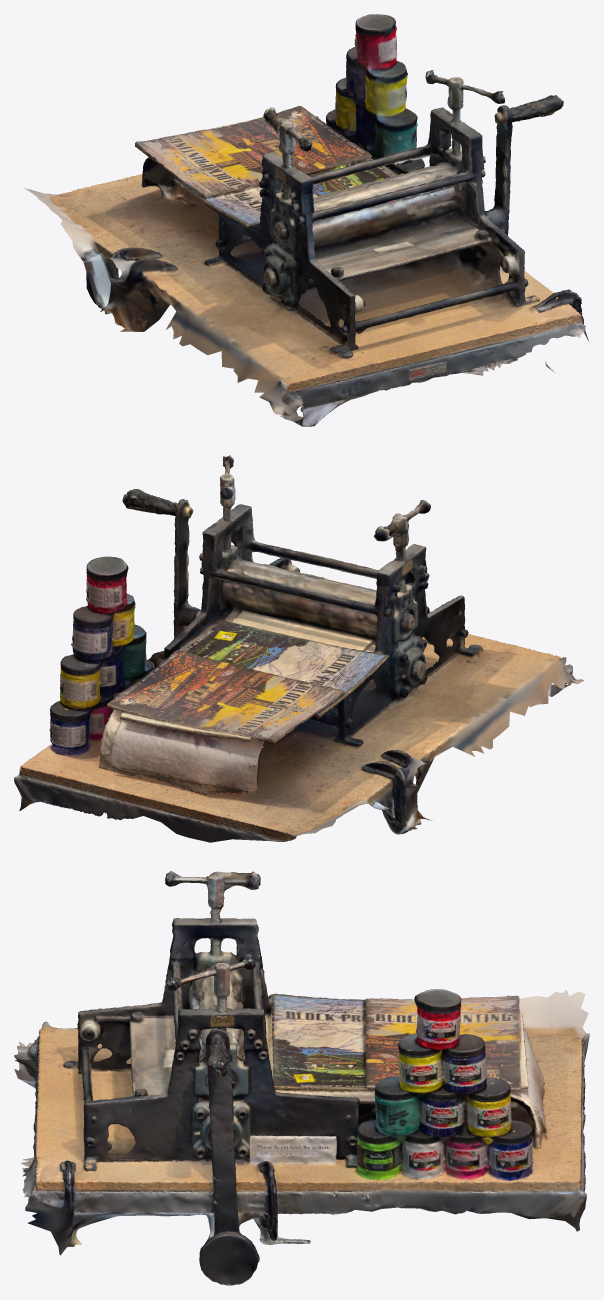
Rendered from imprenta_13.glb.
3 renders of one model, top to bottom at view 1: azimuth 30°, elevation 25°; view 2: azimuth 150°, elevation 25°; view 3: azimuth 270°, elevation 25°, orthographic. The views are drawn at different scales.
Visible parts, largest first — view 1: model (×2); view 2: model (×2); view 3: model (×2).
Boxes of the visible parts, x1=… form: model (×2): x1=23, y1=14, x2=588, y2=426; model (×2): x1=14, y1=455, x2=584, y2=842; model (×2): x1=14, y1=871, x2=589, y2=1285.
Bounding box in the file's own units: 0.9232 × 0.6393 × 1.12.
Materials: 1 (1 with a texture image).
